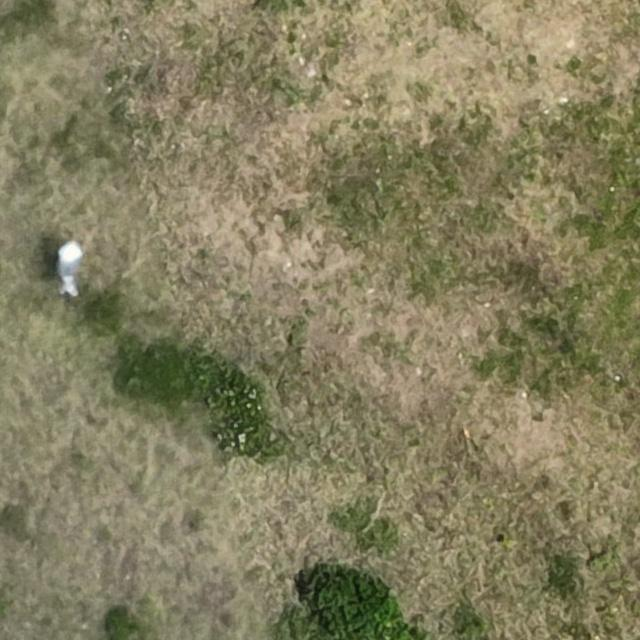umineko: (58, 242, 82, 288)
